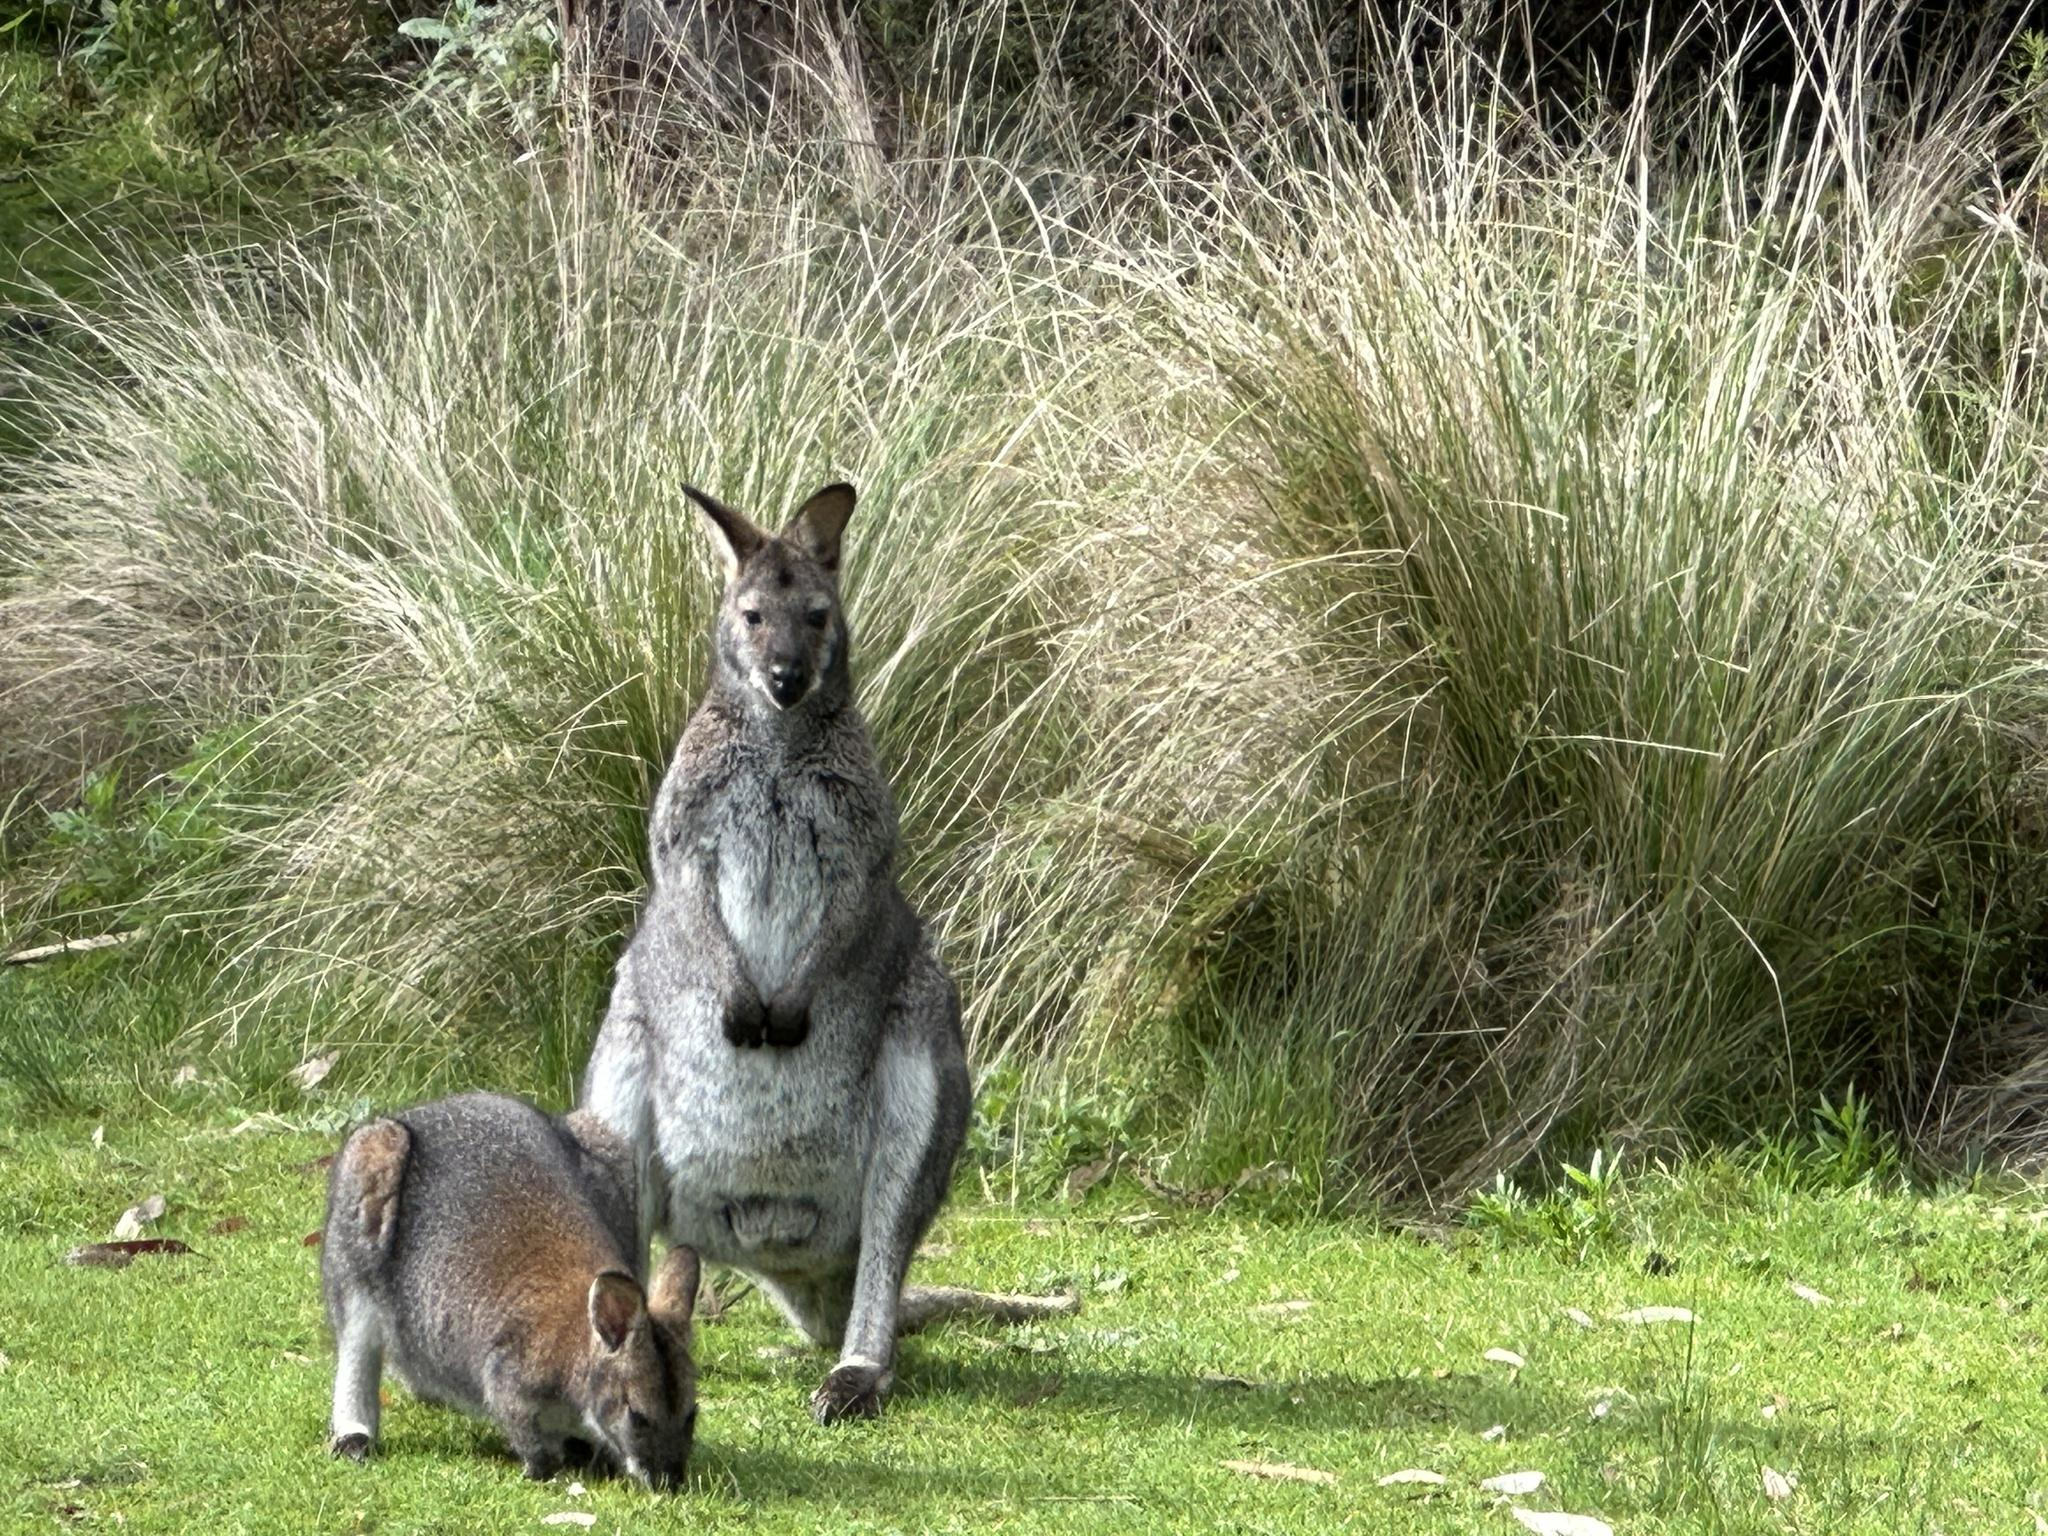Red-necked wallaby: (506, 484, 993, 1505), (319, 1096, 713, 1505)
